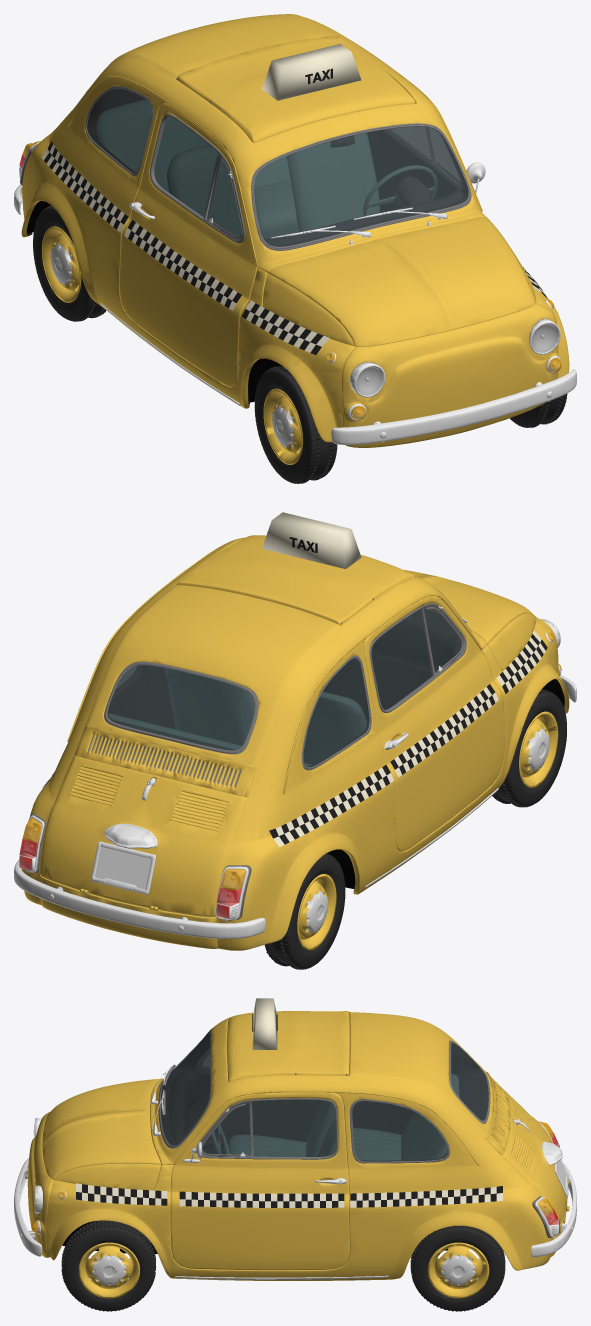
File: TaxiFiat.glb
The picture shows the model from 3 angles, top to bottom: view 1: azimuth 30°, elevation 25°; view 2: azimuth 150°, elevation 25°; view 3: azimuth 270°, elevation 25°; orthographic projection. The views are drawn at different scales.
Parts seen in each view (by area): view 1: Body, DoorL, WheelFL, DoorR, WheelRL, WheelFR; view 2: Body, DoorL, WheelRL, WheelFL, DoorR; view 3: Body, DoorR, WheelFR, WheelRR, DoorL.
Boxes of the visible parts, <box> form: Body: <box>14,14,576,447</box>; DoorL: <box>119,114,264,391</box>; WheelFL: <box>254,366,337,483</box>; DoorR: <box>370,127,480,211</box>; WheelRL: <box>33,205,106,321</box>; WheelFR: <box>510,393,567,427</box>; Body: <box>14,512,576,950</box>; DoorL: <box>363,603,503,857</box>; WheelRL: <box>264,853,345,969</box>; WheelFL: <box>492,689,566,807</box>; DoorR: <box>146,665,175,728</box>; Body: <box>14,998,576,1280</box>; DoorR: <box>173,1098,349,1269</box>; WheelFR: <box>61,1220,156,1311</box>; WheelRR: <box>410,1225,505,1311</box>; DoorL: <box>191,1048,320,1153</box>.
Size of the model in its own units: 1.33 by 1.46 by 2.95.
